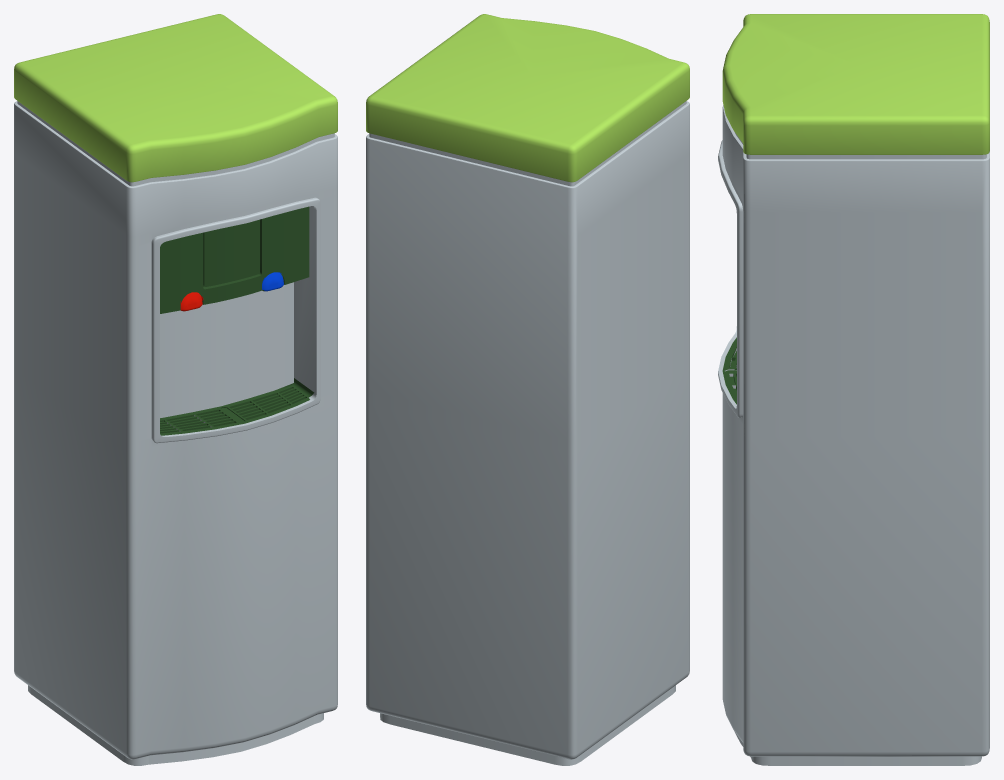
The model's file is water purifier.fbx.
The picture shows the model from 3 angles, left to right: view 1: azimuth 30°, elevation 25°; view 2: azimuth 150°, elevation 25°; view 3: azimuth 270°, elevation 25°; orthographic projection. The views are drawn at different scales.
Parts seen in each view (by area): view 1: Box001; view 2: Box001; view 3: Box001.
Boxes of the visible parts, bbox=[...] form: Box001: bbox=[14, 14, 337, 765]; Box001: bbox=[366, 14, 689, 765]; Box001: bbox=[718, 14, 989, 765].
Bounding box in the file's own units: 1233 × 3493 × 1322.
